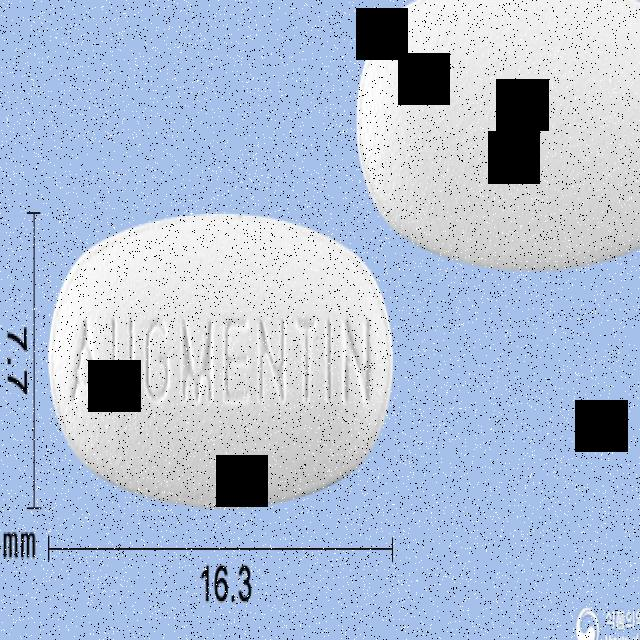Augmentin: (48, 212, 396, 512)
